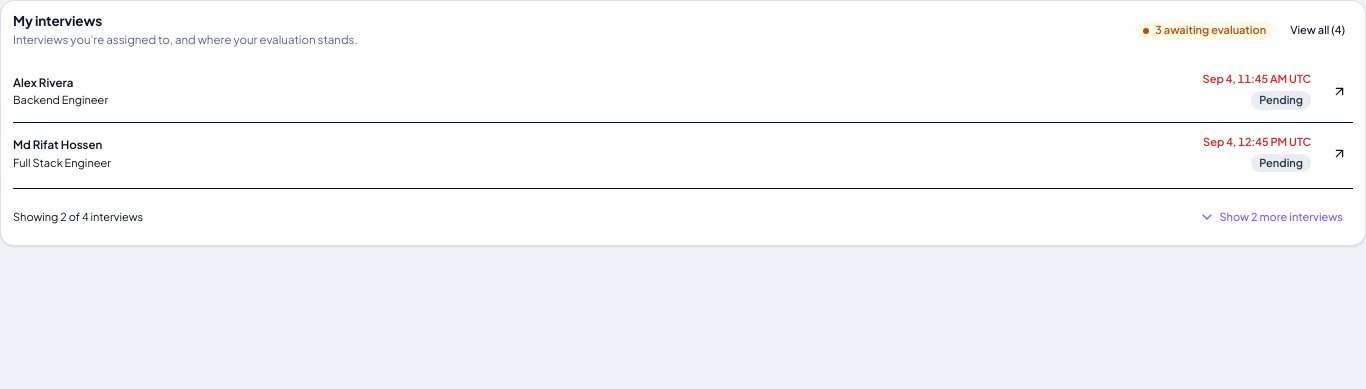
Test: MyInterviewsCard › wraps list to 2 items when more than 2 interviews exist and expands on click
expect the text "Alex Rivera" is shown: met, box [13,75,73,91]
expect the text "Md Rifat Hossen" is shown: met, box [13,137,102,154]
Click the button "Show 2 more interviews": (1271,217) [1190,201,1353,233]
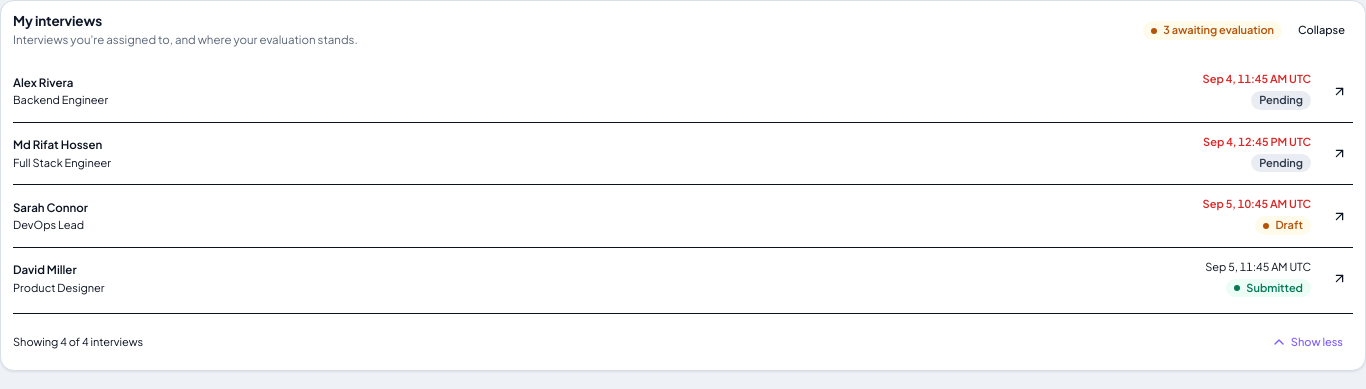
expect the text "Sarah Connor" is shown: met, box [13,200,88,216]
expect the text "David Miller" is shown: met, box [13,262,77,278]
expect the button "Show less" is shown: met, box [1261,326,1353,358]
